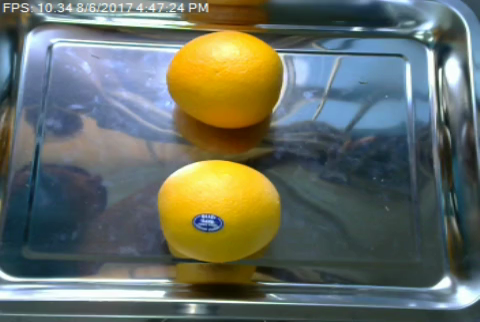Orange: (155, 159, 280, 262), (166, 30, 283, 127)
